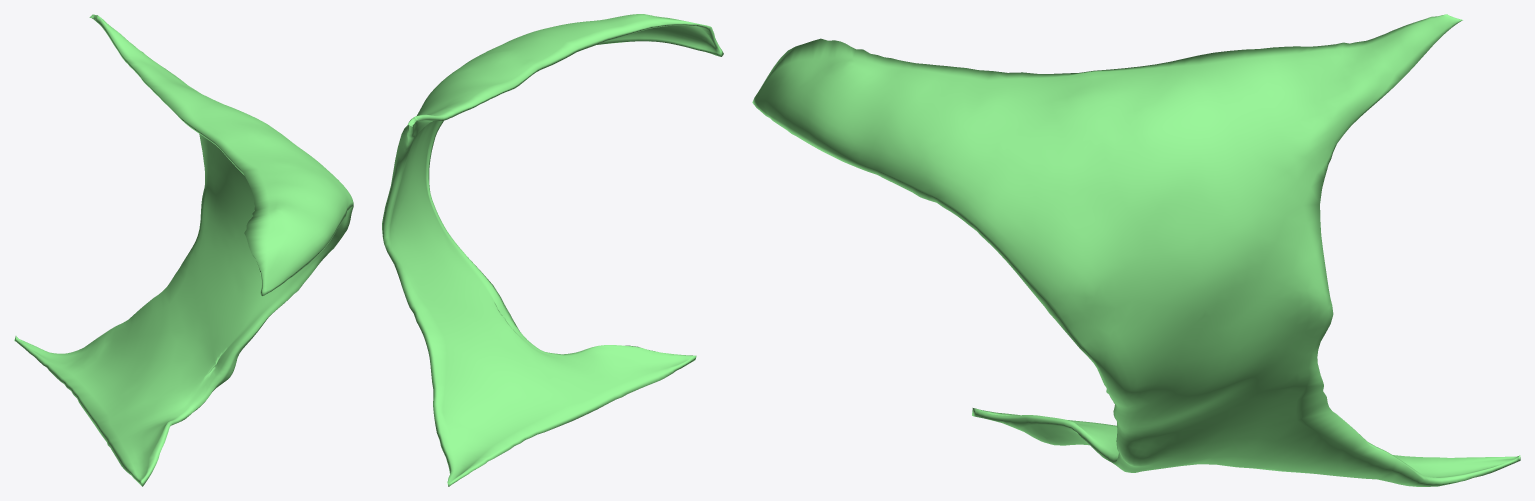
The model's file is Internal_Obliques_Muscle_Left.fbx.
The picture shows the model from 3 angles, left to right: view 1: azimuth 30°, elevation 25°; view 2: azimuth 150°, elevation 25°; view 3: azimuth 270°, elevation 25°; orthographic projection. The views are drawn at different scales.
Visible parts, largest first — view 1: Internal_Obliques_Muscle_Left; view 2: Internal_Obliques_Muscle_Left; view 3: Internal_Obliques_Muscle_Left.
Boxes of the visible parts, <box> form: Internal_Obliques_Muscle_Left: <box>14,14,353,486</box>; Internal_Obliques_Muscle_Left: <box>382,14,723,486</box>; Internal_Obliques_Muscle_Left: <box>752,14,1520,486</box>.
Size of the model in its own units: 143 by 197 by 274.
